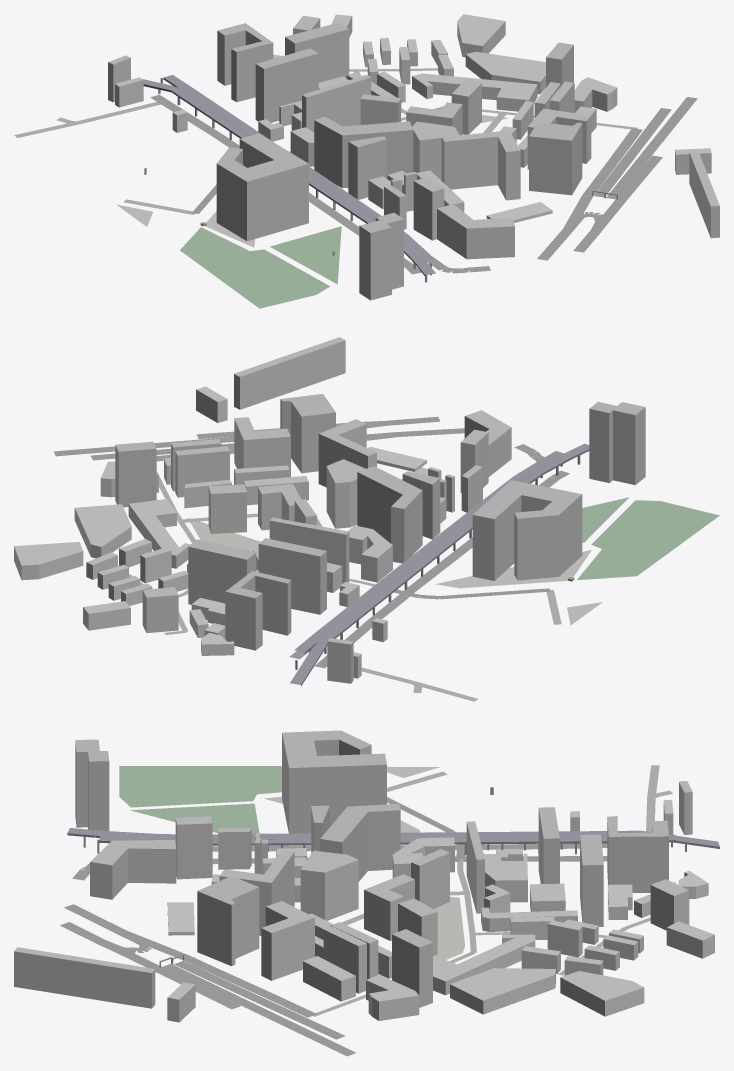
The picture shows the model from 3 angles, top to bottom: view 1: azimuth 30°, elevation 25°; view 2: azimuth 150°, elevation 25°; view 3: azimuth 270°, elevation 25°; orthographic projection. The views are drawn at different scales.
Bounding box in the file's own units: 575 × 71.17 × 576.
